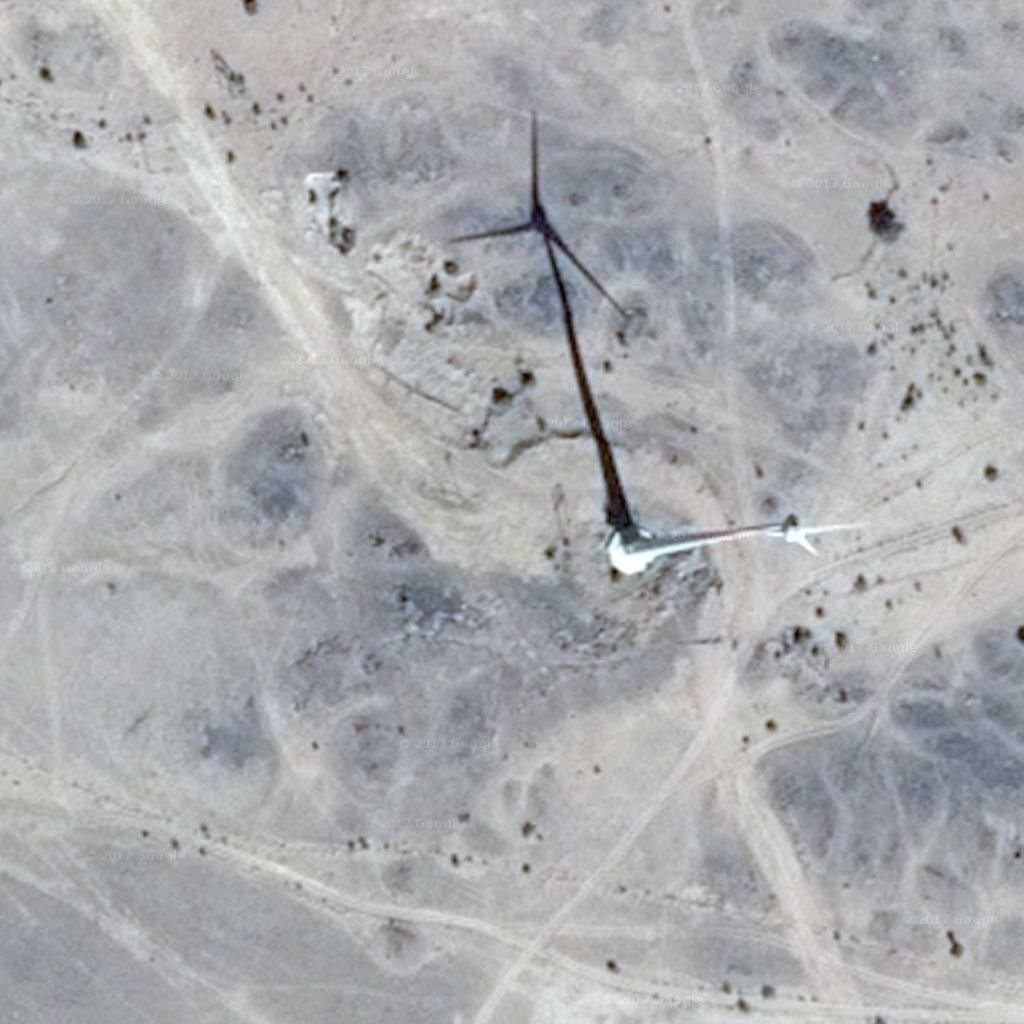Windmill: (452, 107, 646, 532)
